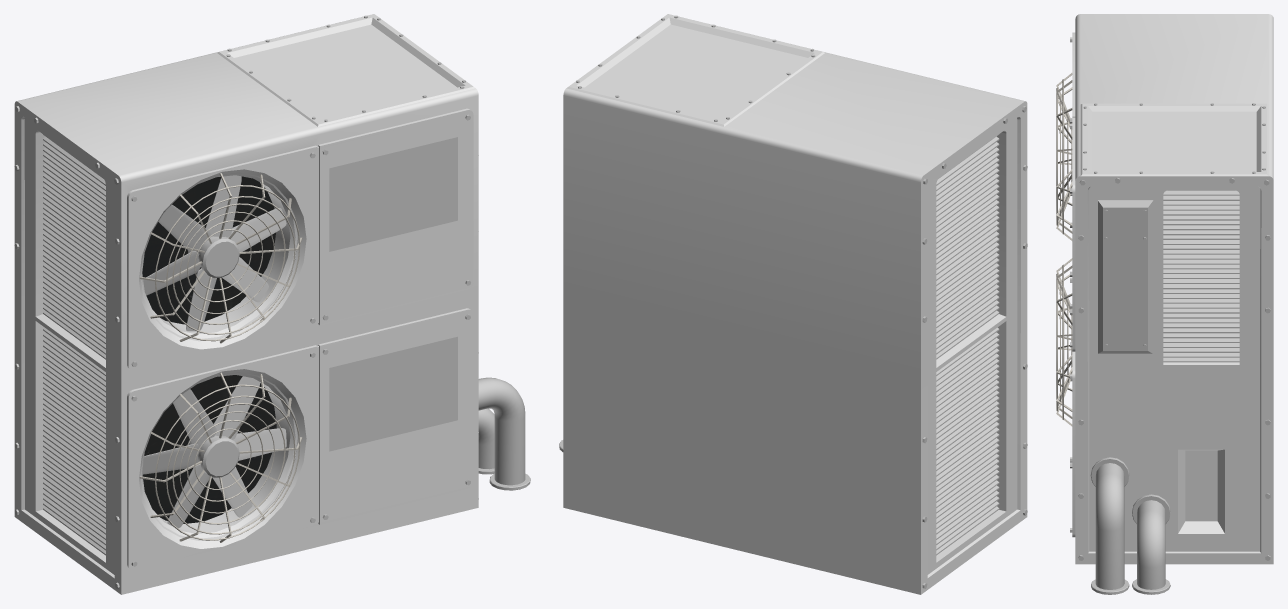
Rendered from KB3D_CBP_ACunit_P.fbx.
3 renders of one model, left to right at view 1: azimuth 30°, elevation 25°; view 2: azimuth 150°, elevation 25°; view 3: azimuth 270°, elevation 25°, orthographic. The views are drawn at different scales.
Visible parts, largest first — view 1: KB3D_CBP_ACunit_P_Main; view 2: KB3D_CBP_ACunit_P_Main; view 3: KB3D_CBP_ACunit_P_Main.
Boxes of the visible parts, left/top/right/bottom form: KB3D_CBP_ACunit_P_Main: left=14, top=14, right=530, bottom=594; KB3D_CBP_ACunit_P_Main: left=559, top=14, right=1027, bottom=594; KB3D_CBP_ACunit_P_Main: left=1056, top=14, right=1273, bottom=594.
Bounding box in the file's own units: 164 × 154 × 77.71.
